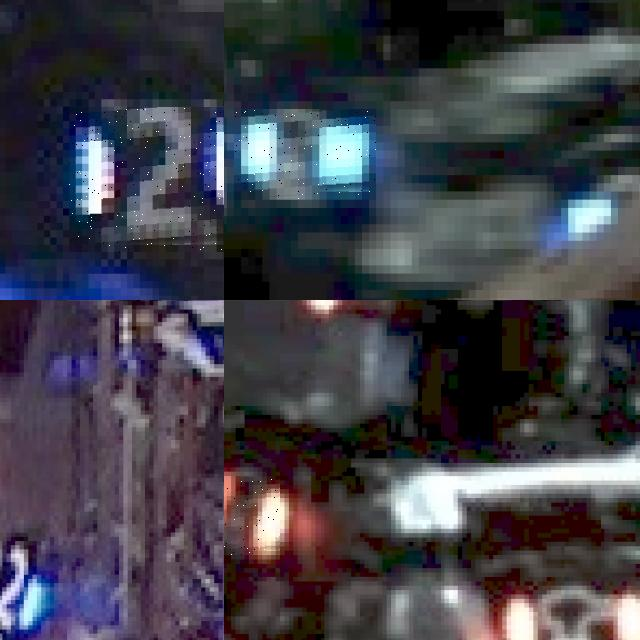B2: (69, 106, 224, 252), (0, 532, 52, 638)
Bs: (234, 109, 376, 200)
Rs: (497, 585, 640, 640), (224, 476, 279, 555)
